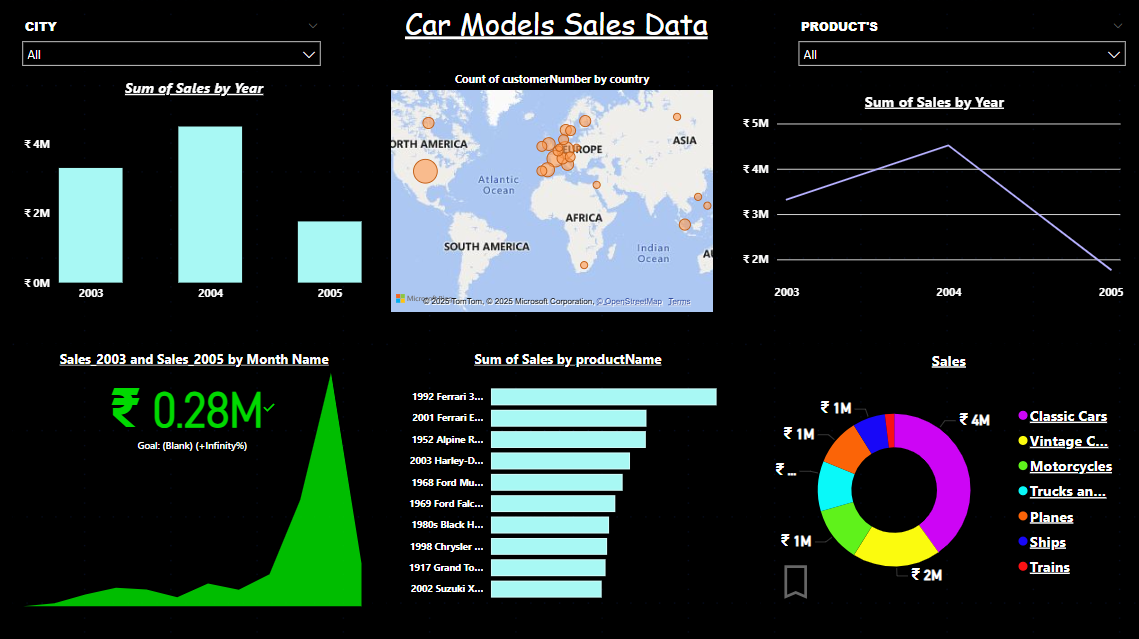

What the dashboard file says about the page in this screenshot:
{"tool":"powerbi","page":{"name":"Page 1","canvas":[1280,720],"ordinal":0},"visuals":[{"type":"barChart","fields":{"Category":["products.productName"],"Y":["Sum(order details.Sales)"]},"box":[432,384,400,304],"z":0},{"type":"donutChart","title":" Sales ","fields":{"Category":["products.productLine"],"Y":["Sum(order details.Sales)"]},"box":[848,384,416,304],"z":1000},{"type":"slicer","fields":{"Values":["orders.Year"]},"box":[1120,0,144,96],"z":2000},{"type":"kpi","fields":{"TrendLine":["orders.Month Name"],"Goal":["orders.Sales_2005"],"Indicator":["orders.Sales_2003"]},"box":[16,384,400,304],"z":3000},{"type":"map","fields":{"Category":["customers.country"],"Size":["CountNonNull(customers.customerNumber)"]},"box":[432,80,368,272],"z":4000},{"type":"slicer","fields":{"Values":["employees.EmpFullNmae"]},"box":[720,16,384,80],"z":5000},{"type":"slicer","fields":{"Values":["productlines.productLine"]},"box":[320,16,384,80],"z":6000},{"type":"slicer","fields":{"Values":["offices.city"]},"box":[0,16,320,64],"z":7000},{"type":"lineChart","fields":{"Category":["orders.orderDate.Variation.Date Hierarchy.Year","orders.orderDate.Variation.Date Hierarchy.Quarter","orders.orderDate.Variation.Date Hierarchy.Month","orders.orderDate.Variation.Date Hierarchy.Day"],"Y":["Sum(order details.Sales)"]},"box":[816,96,448,256],"z":8000},{"type":"actionButton","box":[864,624,96,48],"z":9000},{"type":"columnChart","fields":{"Category":["orders.Year"],"Y":["Sum(order details.Sales)"]},"box":[16,80,400,272],"z":10000}]}

Visuals, with their boxes in screenshot pixels (x1, y1, x2, y2), scaled from the page's 1280x720 canvas onto the 1139x639 screenshot:
barChart - products.productName x Sum(order details.Sales): box(384, 341, 740, 611)
" Sales " donutChart: box(755, 341, 1125, 611)
slicer - orders.Year: box(997, 0, 1125, 85)
kpi - orders.Month Name x orders.Sales_2005: box(14, 341, 370, 611)
map - customers.country x CountNonNull(customers.customerNumber): box(384, 71, 712, 312)
slicer - employees.EmpFullNmae: box(641, 14, 982, 85)
slicer - productlines.productLine: box(285, 14, 626, 85)
slicer - offices.city: box(0, 14, 285, 71)
lineChart - orders.orderDate.Variation.Date Hierarchy.Year x orders.orderDate.Variation.Date Hierarchy.Quarter: box(726, 85, 1125, 312)
actionButton: box(769, 554, 854, 596)
columnChart - orders.Year x Sum(order details.Sales): box(14, 71, 370, 312)
